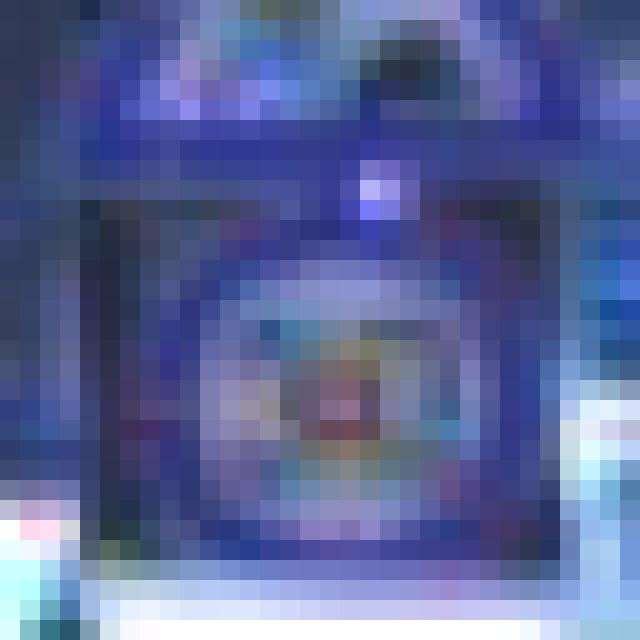SPEED LIMIT 30: (176, 232, 526, 554)
